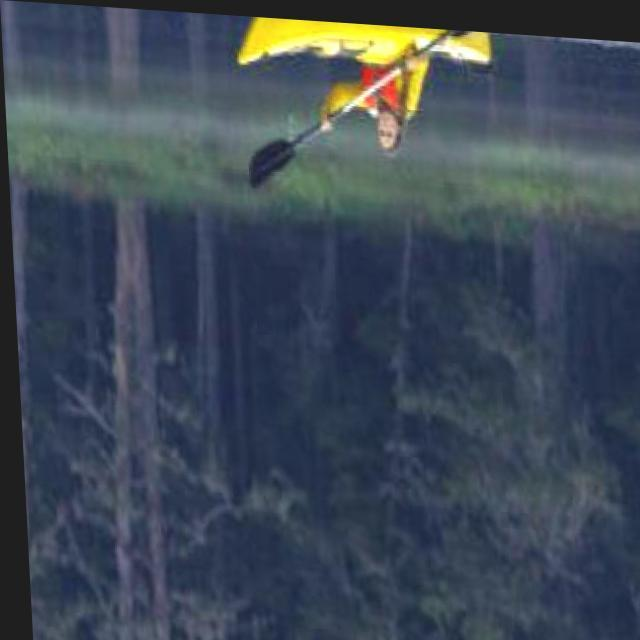kayak: (237, 13, 487, 185), (237, 13, 489, 181), (237, 13, 487, 181), (239, 14, 487, 176)
